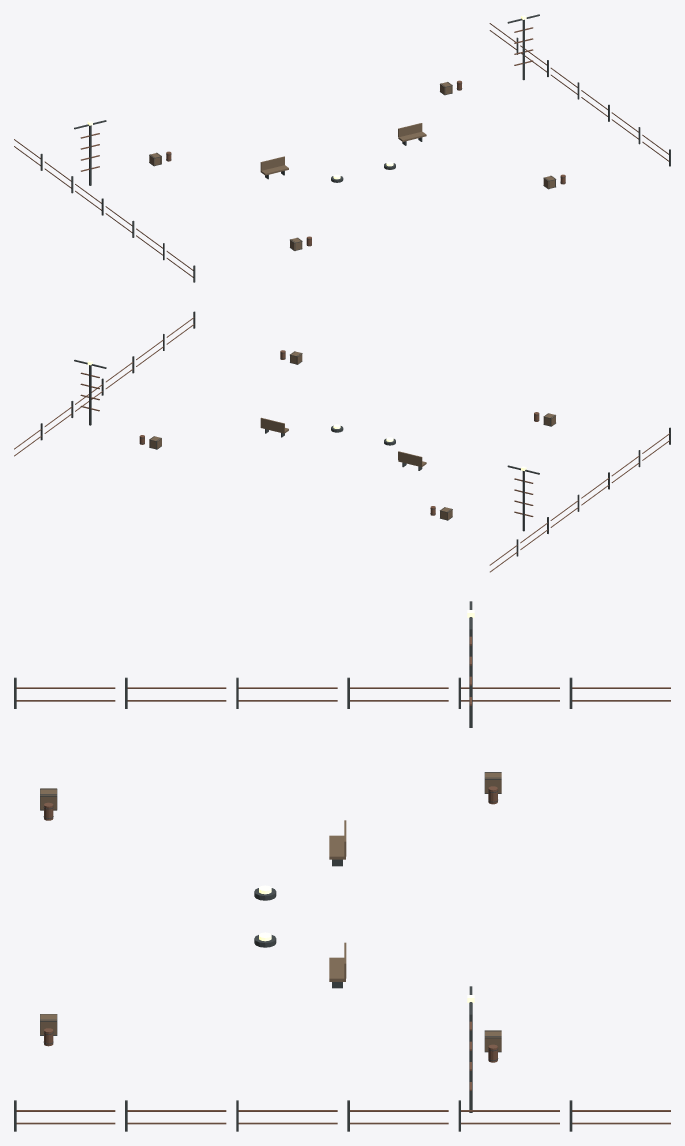
Rendered from Refuge_04_Vie_du_camp.fbx.
3 renders of one model, top to bottom at view 1: azimuth 30°, elevation 25°; view 2: azimuth 150°, elevation 25°; view 3: azimuth 270°, elevation 25°, orthographic. The views are drawn at different scales.
Parts seen in each view (by area): view 1: Refuge_04_Vie_du_camp_rust, Refuge_04_Vie_du_camp_iron, Refuge_04_Vie_du_camp_wood; view 2: Refuge_04_Vie_du_camp_rust, Refuge_04_Vie_du_camp_iron, Refuge_04_Vie_du_camp_wood; view 3: Refuge_04_Vie_du_camp_rust, Refuge_04_Vie_du_camp_iron, Refuge_04_Vie_du_camp_wood.
Boxes of the visible parts, x1,y1,x2,y2 form: Refuge_04_Vie_du_camp_rust: [14, 23, 668, 277]; Refuge_04_Vie_du_camp_iron: [40, 14, 670, 282]; Refuge_04_Vie_du_camp_wood: [149, 82, 555, 250]; Refuge_04_Vie_du_camp_rust: [14, 317, 669, 572]; Refuge_04_Vie_du_camp_iron: [40, 311, 670, 556]; Refuge_04_Vie_du_camp_wood: [149, 351, 555, 519]; Refuge_04_Vie_du_camp_rust: [16, 636, 670, 1124]; Refuge_04_Vie_du_camp_iron: [14, 601, 572, 1131]; Refuge_04_Vie_du_camp_wood: [40, 772, 501, 1051].
Bounding box in the file's own units: 180 × 23.06 × 118.
